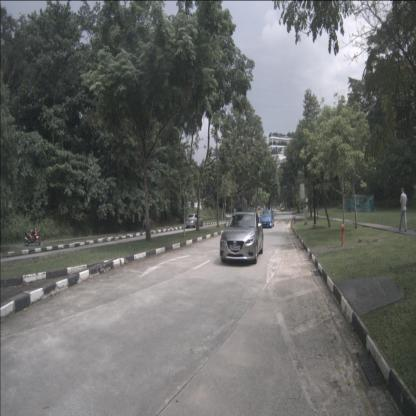human-pedestrian-adult: (398, 188, 408, 232)
vehicle-car: (219, 212, 264, 264), (185, 213, 203, 228), (260, 210, 274, 228)
vehicle-motorcycle: (24, 226, 40, 247)
